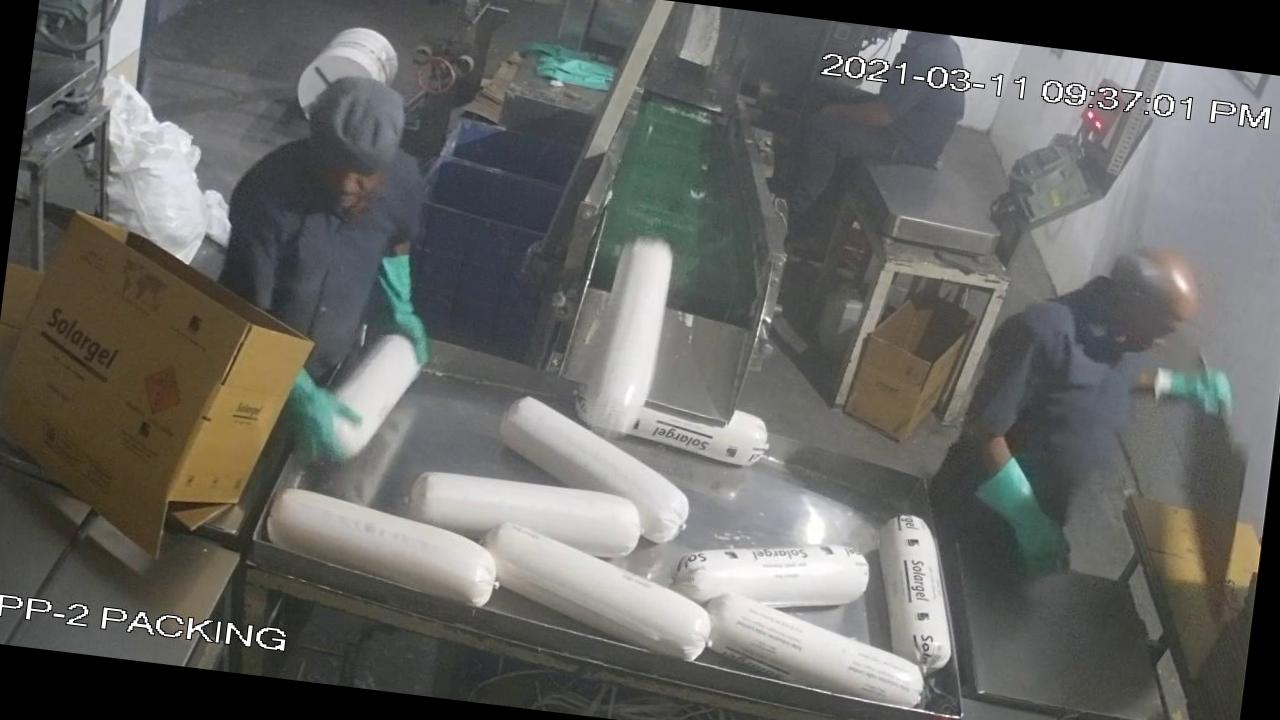Gloves: (345, 230, 473, 388), (960, 440, 1087, 584), (1144, 346, 1239, 436)
